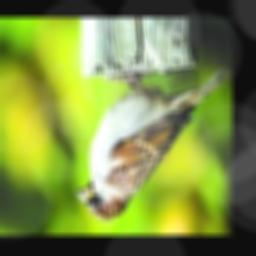Sparrow: (76, 66, 229, 219)
